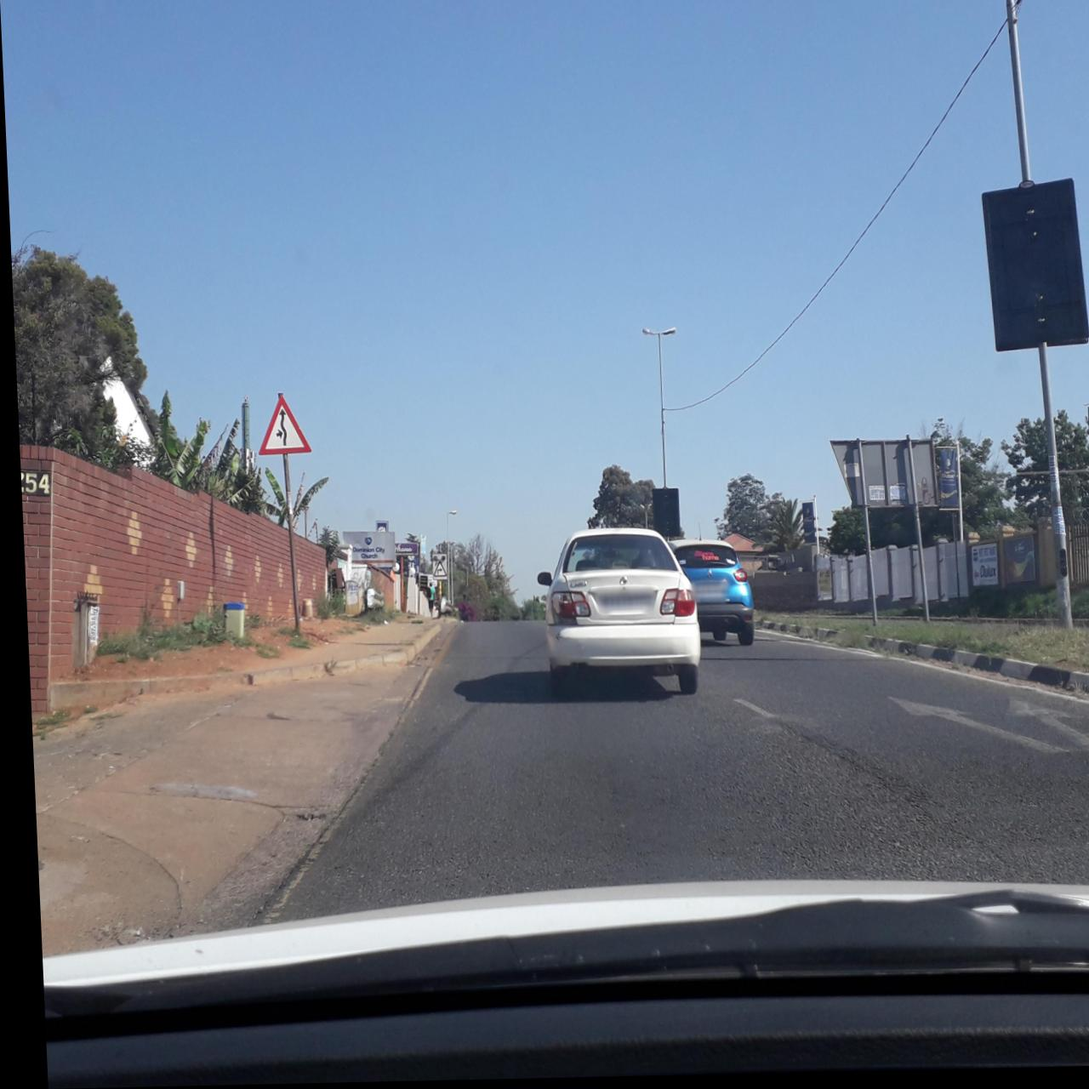stop sign: (249, 389, 317, 643)
